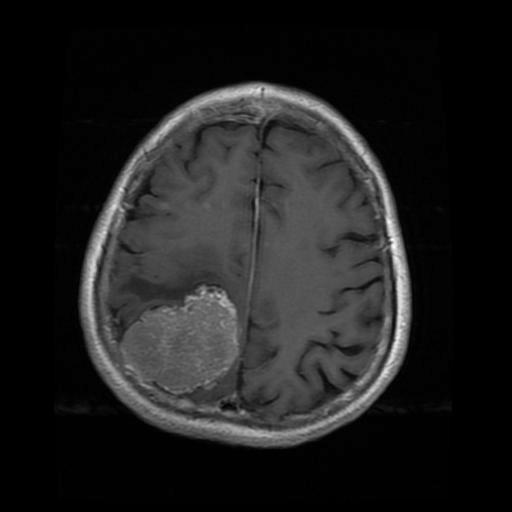Tumour-Meningioma: (109, 253, 265, 410)
